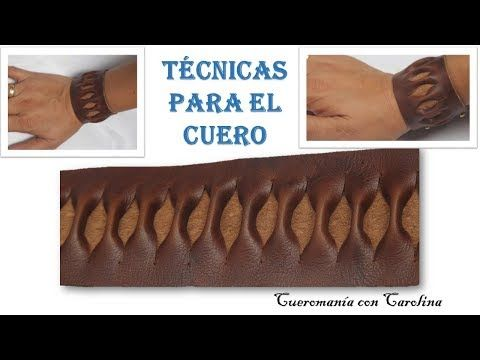cuero: (60, 55, 468, 290)
